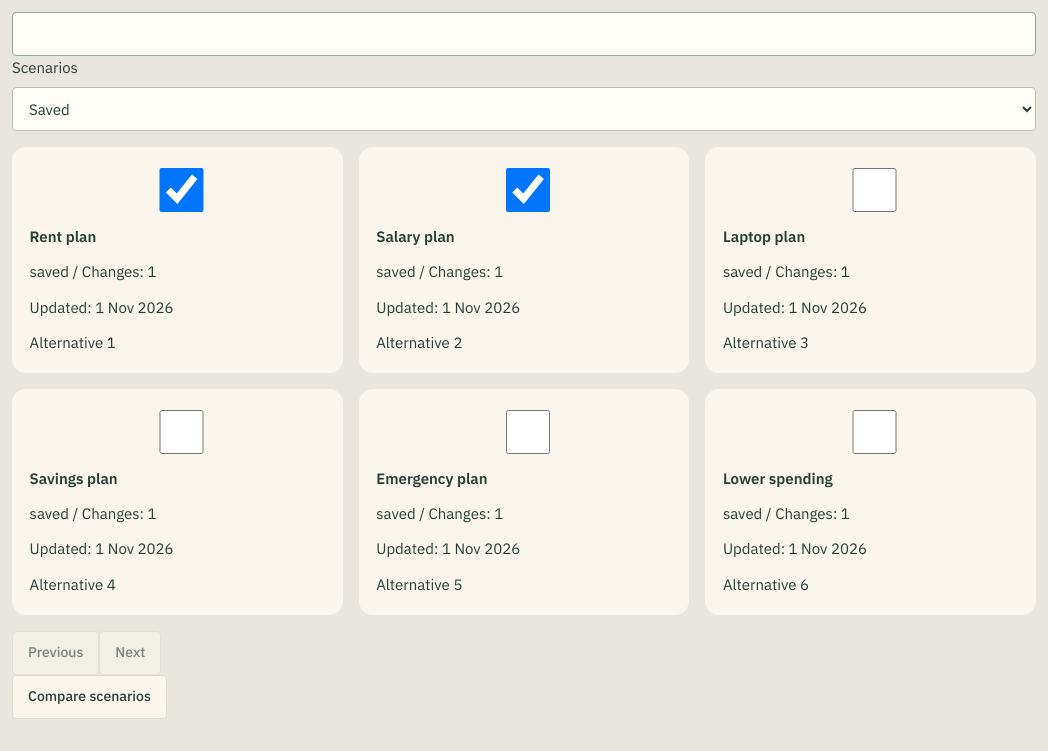
Test: renders structured matrix and assumptions in en
(page scrolled)
Click the button "Compare scenarios". click: (89, 697)
box: [12,675,167,719]
(page scrolled)
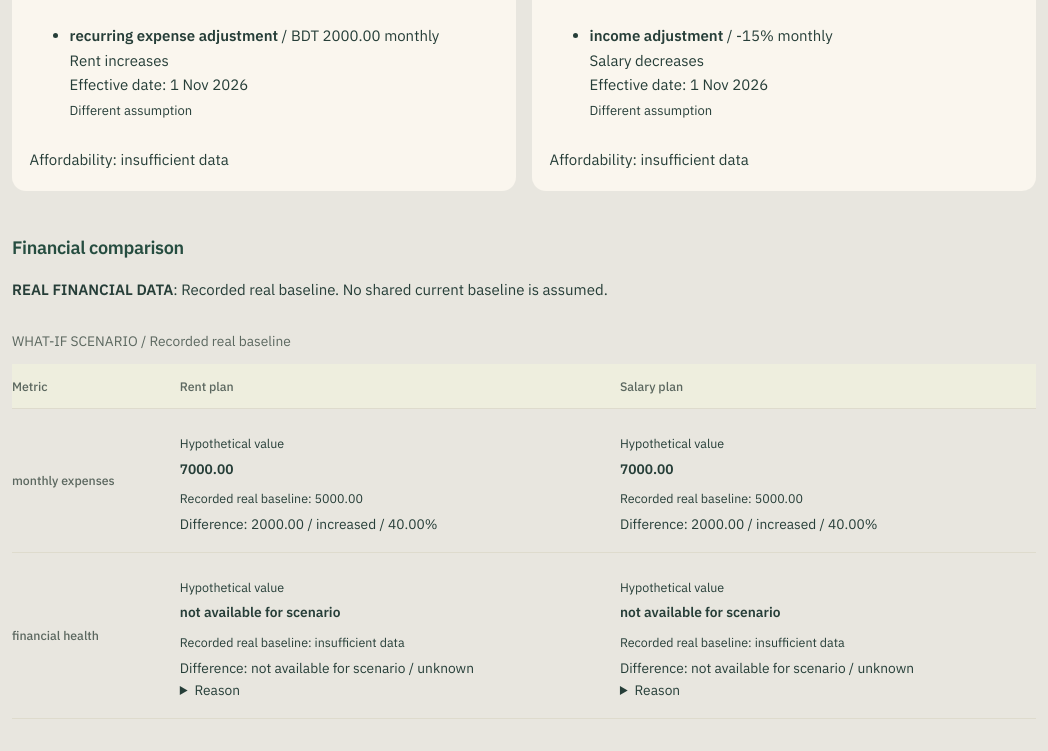
Now the text "7000.00" is shown 2 times, box [180,460,233,478]; [620,460,674,478]
Now the text "Salary decreases" is shown, box [590,51,704,70]
Now the text "-15%" is shown, box [736,26,774,45]
